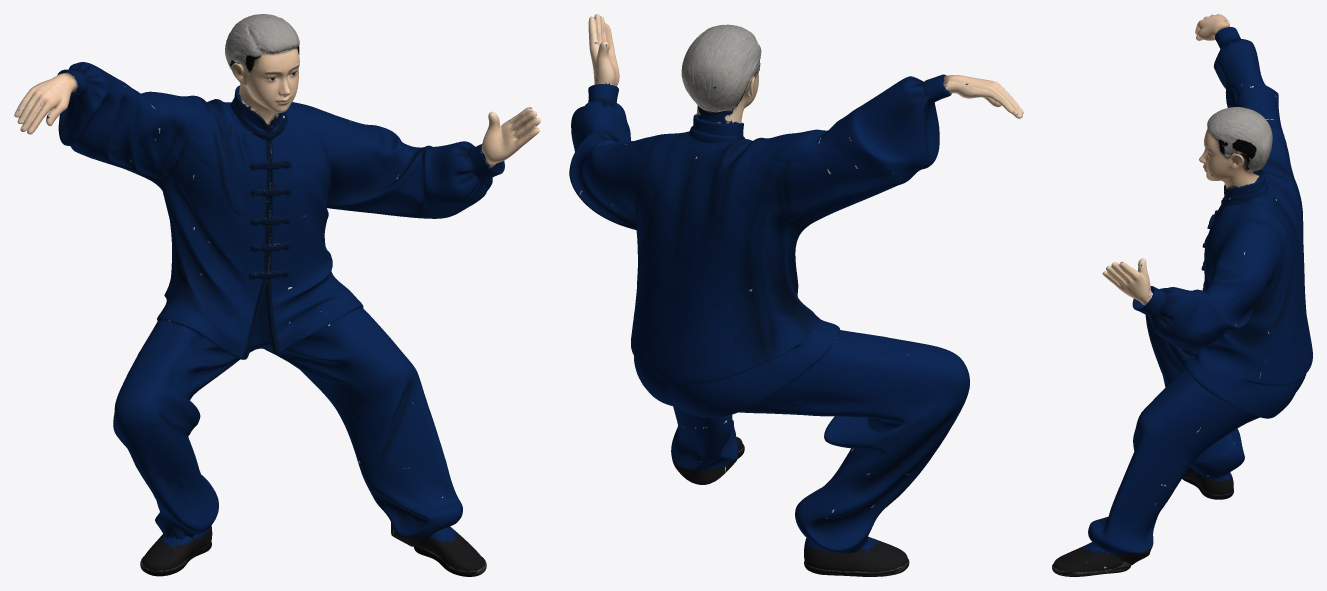
The model's file is tai-chi-pose.glb.
3 renders of one model, left to right at view 1: azimuth 30°, elevation 25°; view 2: azimuth 150°, elevation 25°; view 3: azimuth 270°, elevation 25°, orthographic. The views are drawn at different scales.
Visible parts, largest first — view 1: Meshy_AI_Tai_Chi_Pose_0325175509_texture.obj; view 2: Meshy_AI_Tai_Chi_Pose_0325175509_texture.obj; view 3: Meshy_AI_Tai_Chi_Pose_0325175509_texture.obj.
Boxes of the visible parts, x1,y1,x2,y2 form: Meshy_AI_Tai_Chi_Pose_0325175509_texture.obj: (14, 14, 540, 576); Meshy_AI_Tai_Chi_Pose_0325175509_texture.obj: (569, 14, 1023, 576); Meshy_AI_Tai_Chi_Pose_0325175509_texture.obj: (1052, 14, 1312, 576).
Bounding box in the file's own units: 0.4559 × 0.4747 × 0.2671.
1 material, 1 textured.
